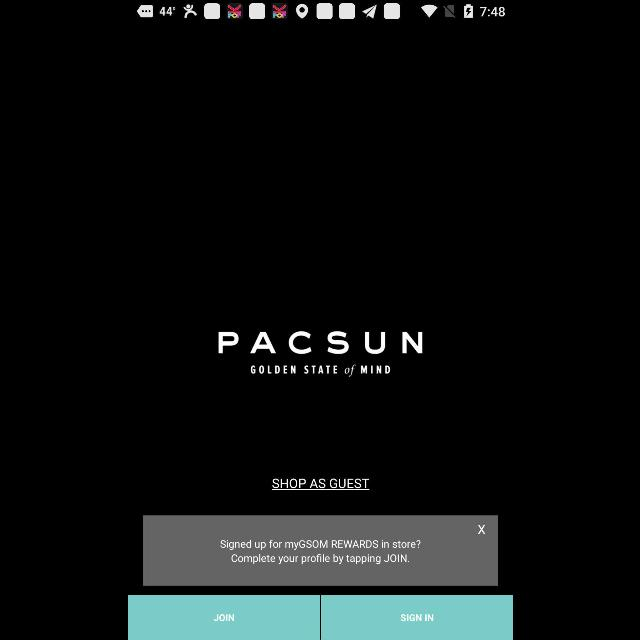image: (218, 330, 422, 378)
text: (271, 478, 369, 490)
textbutton: (320, 596, 512, 640), (128, 596, 318, 640)
uppertaskbar: (128, 1, 512, 23)
